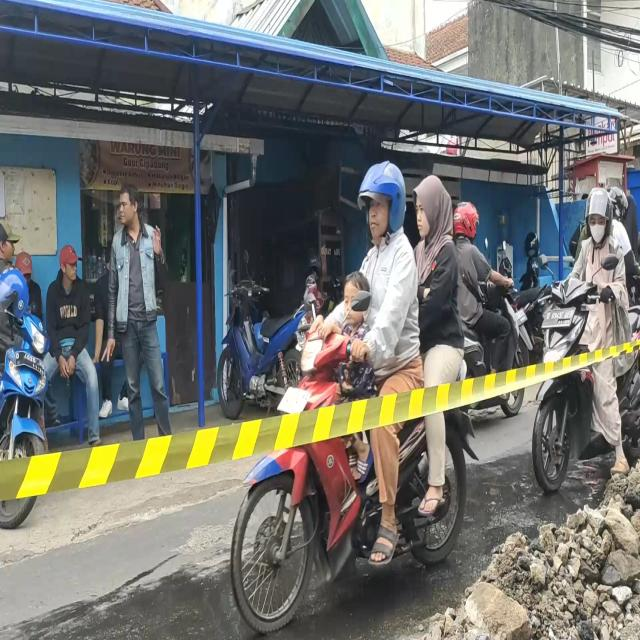helmet: (362, 163, 407, 245), (586, 189, 612, 239), (454, 200, 479, 240), (614, 188, 628, 222)
no-helmet: (416, 186, 452, 242), (343, 275, 368, 327)
